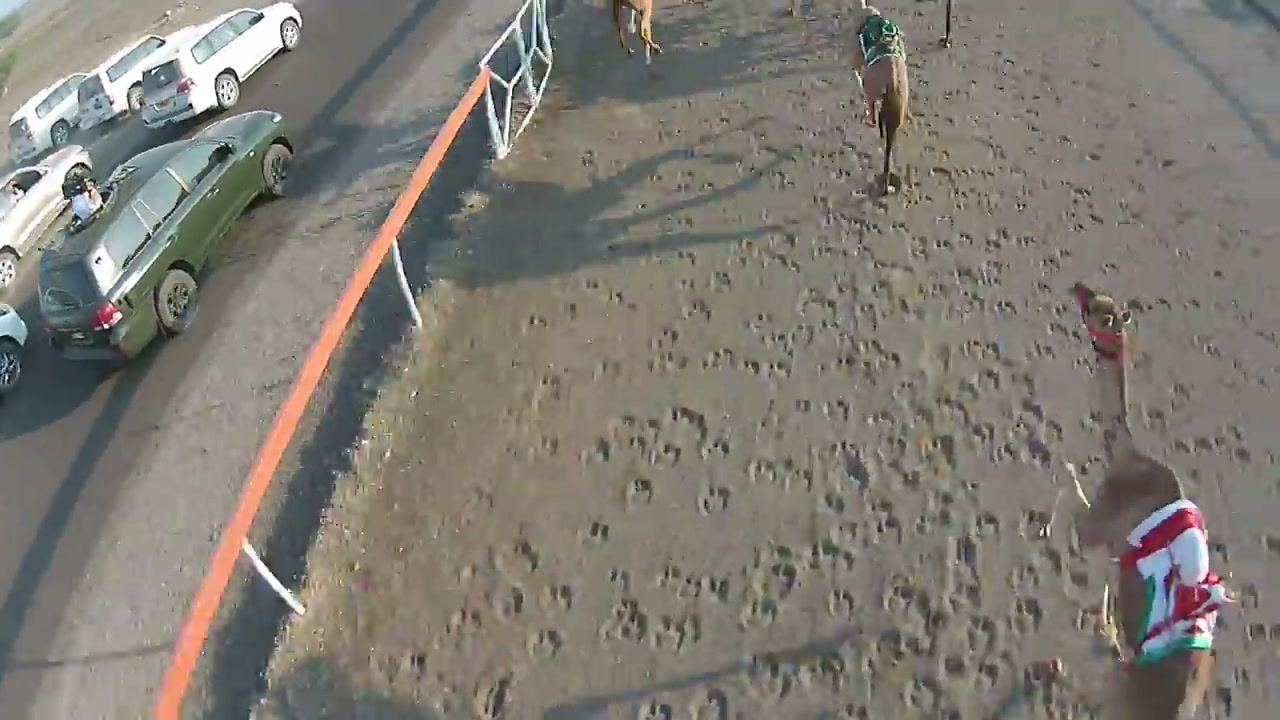animal_foot_print: (293, 0, 1279, 718), (527, 629, 564, 659)
